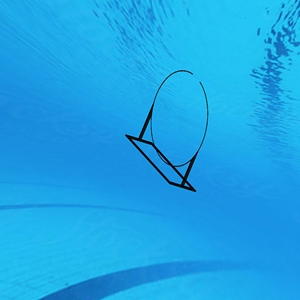circle: (122, 66, 212, 197)
